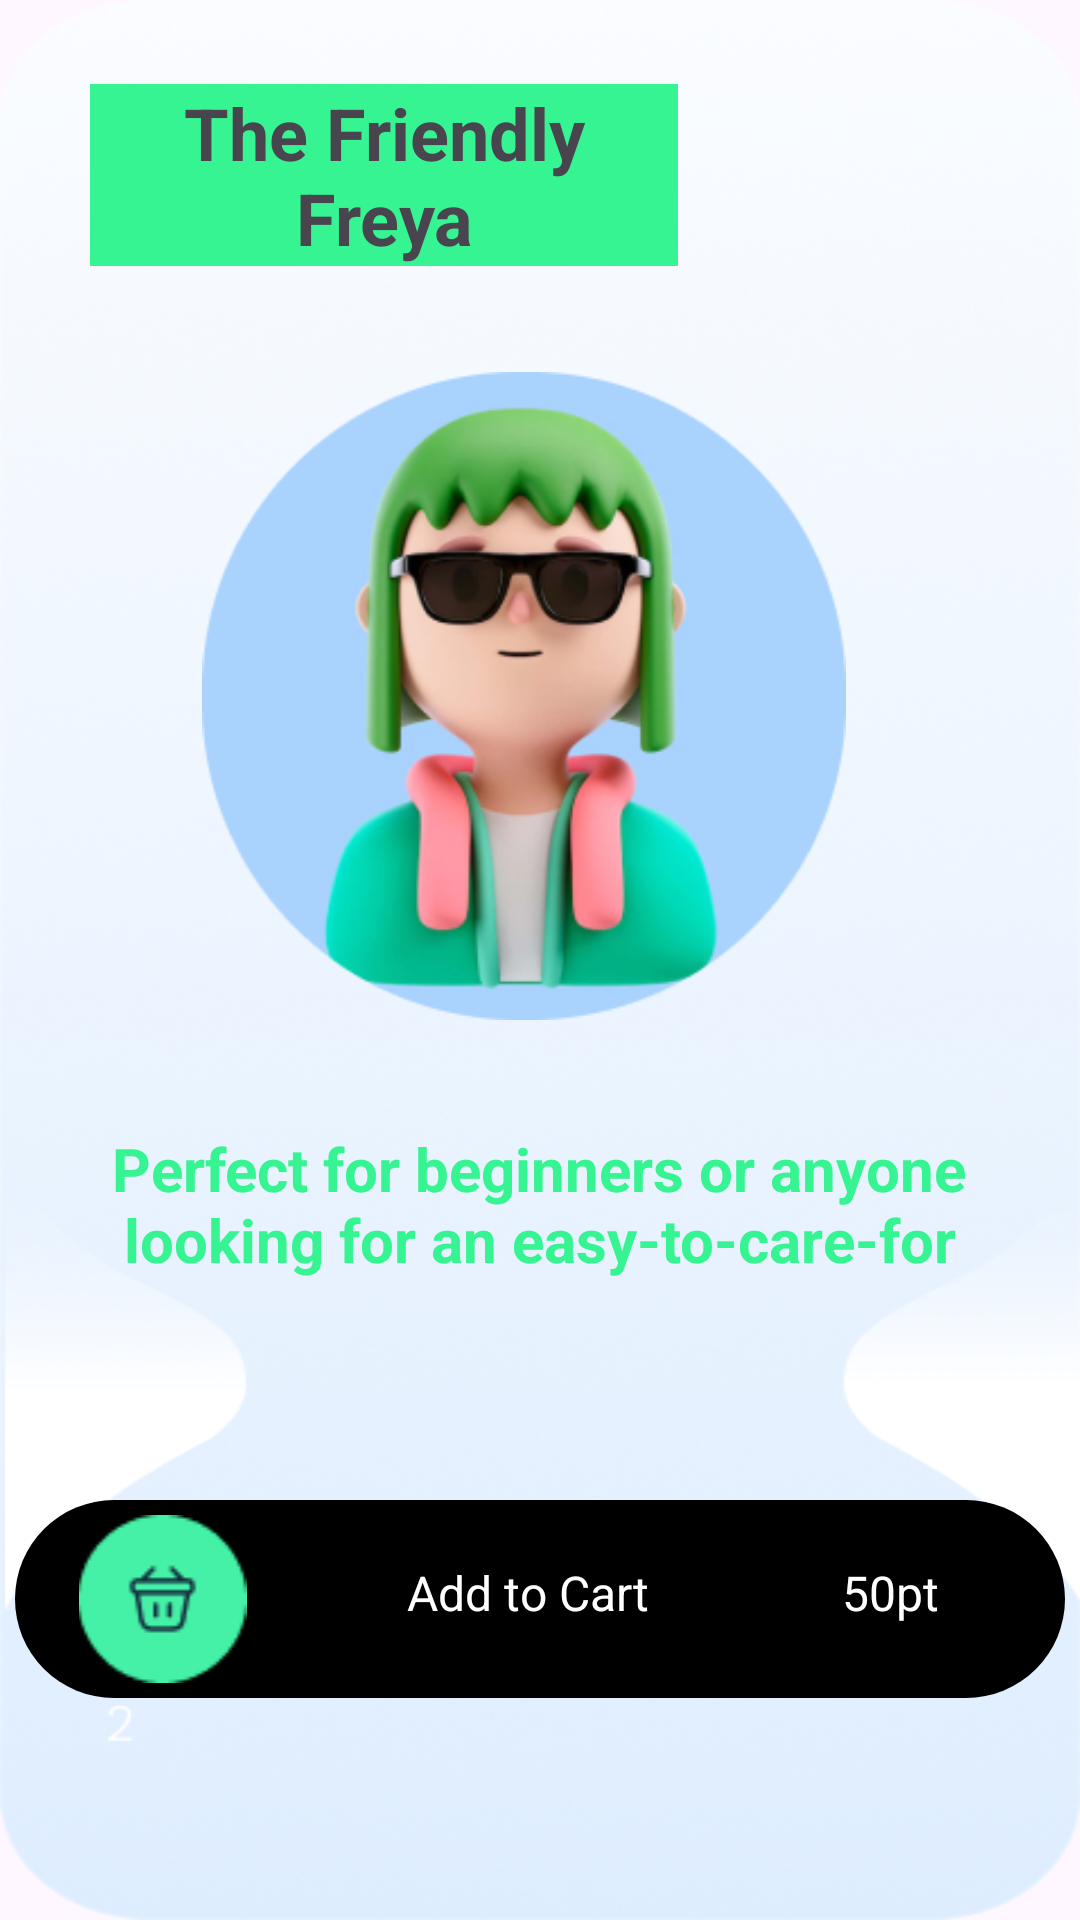

Screen size 1080px x 1920px. Icon name, then its center in pixels as [x,y]:
panier: [162,1591]
